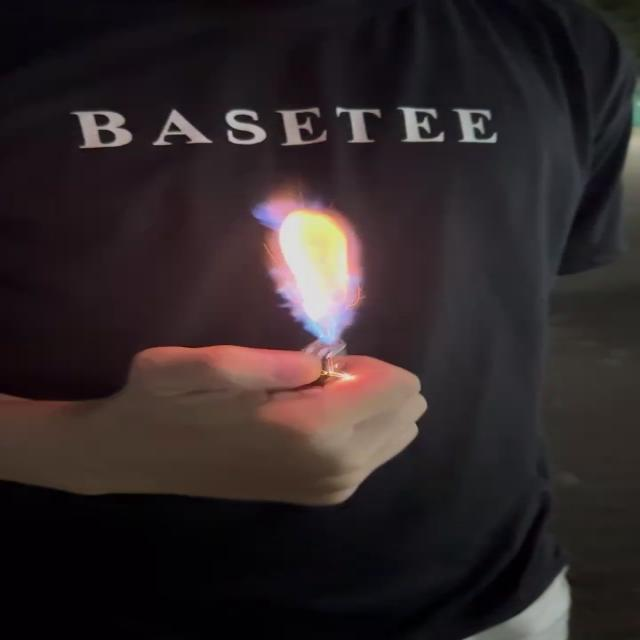Fire: (260, 192, 379, 347)
